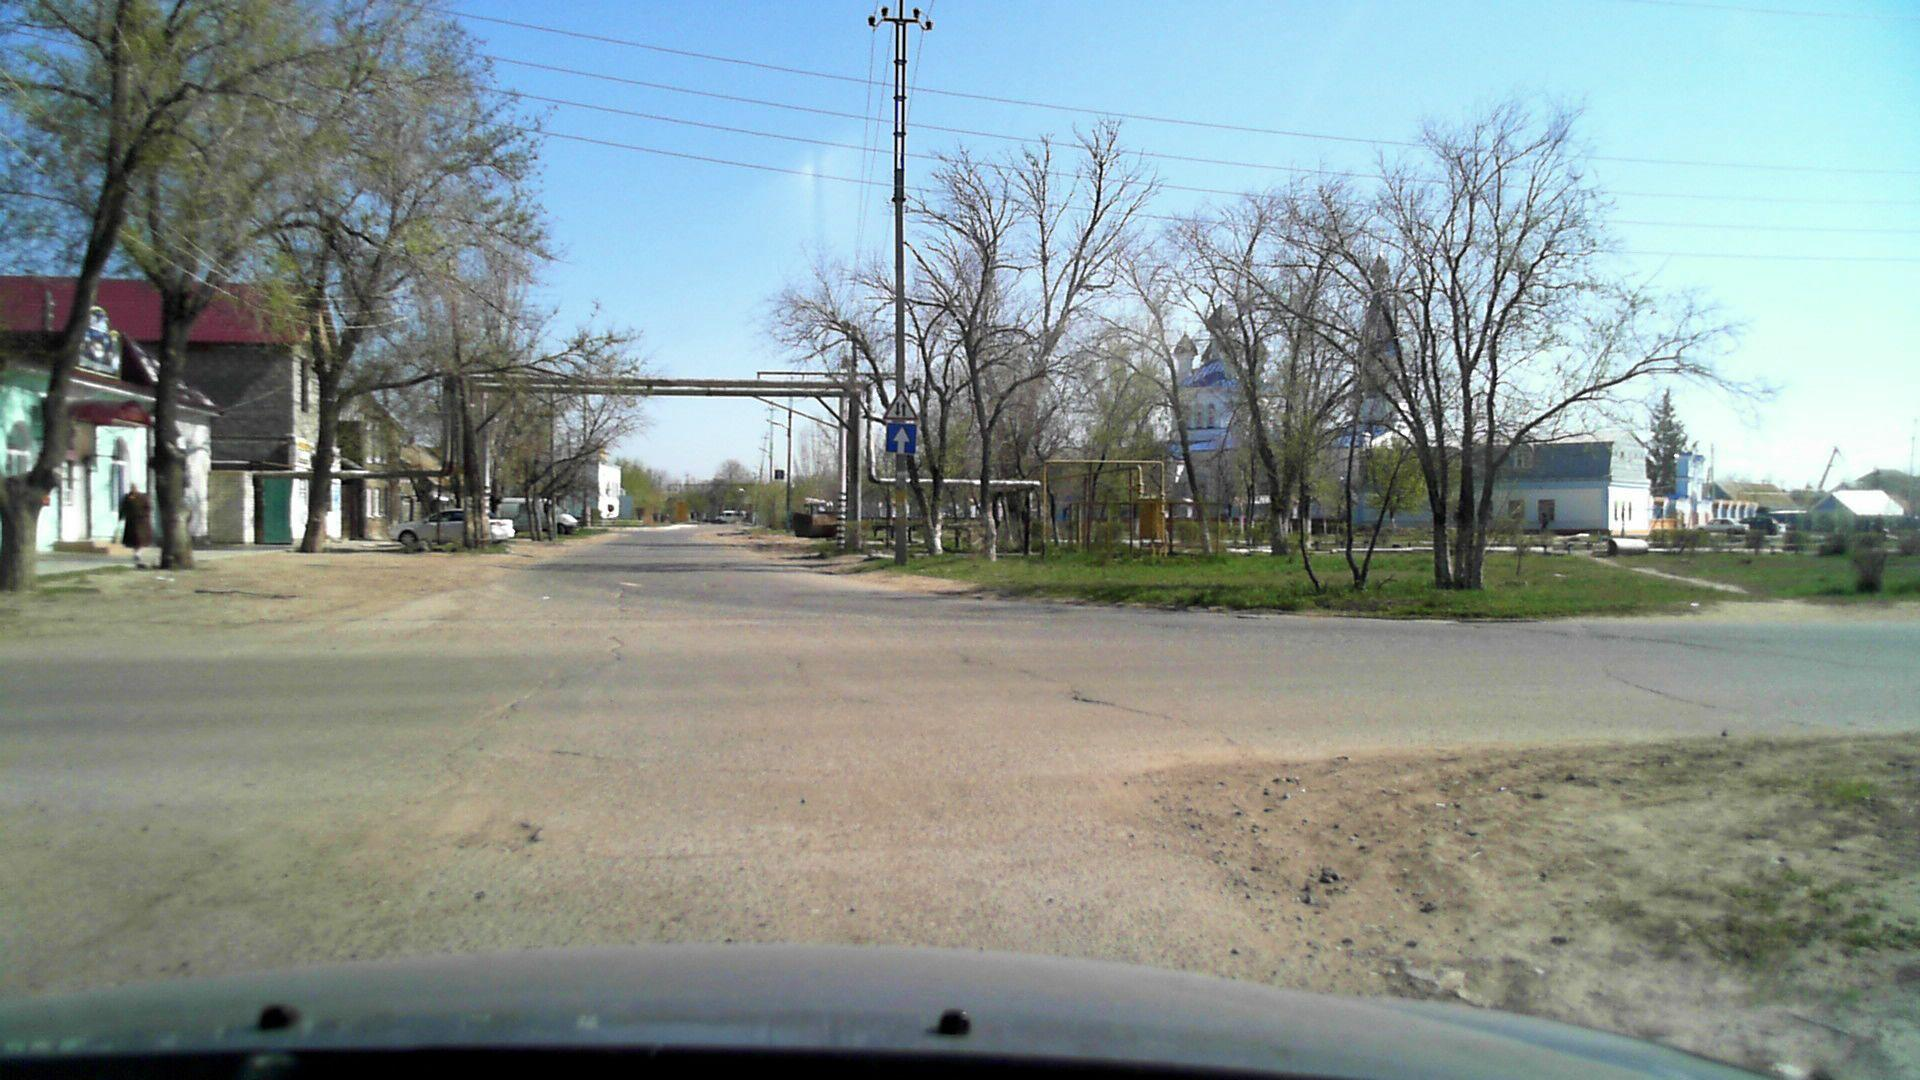1_21: (882, 390, 919, 422)
5_5: (882, 423, 918, 454)
5_6: (774, 469, 786, 481)
